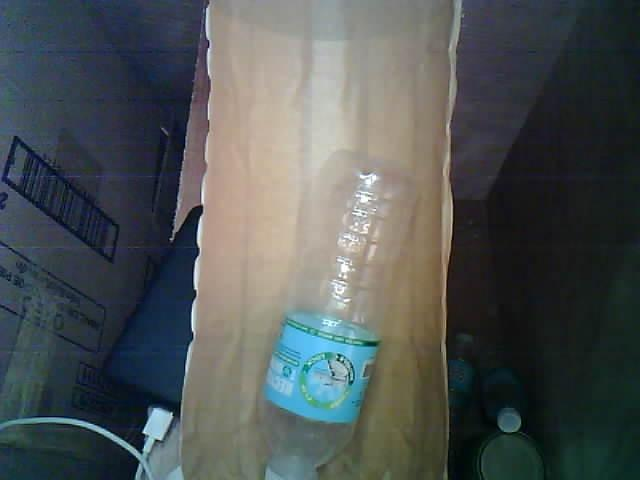small_bottle: (244, 144, 423, 480)
